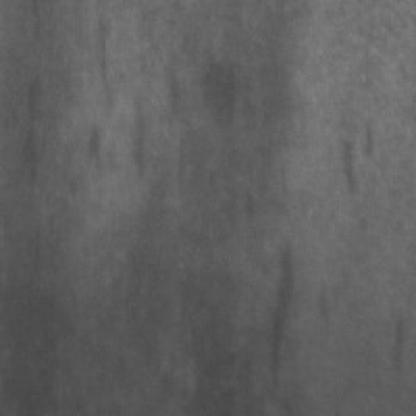inclusion: (73, 10, 127, 183), (252, 235, 302, 395), (13, 60, 56, 210), (331, 123, 364, 210)
